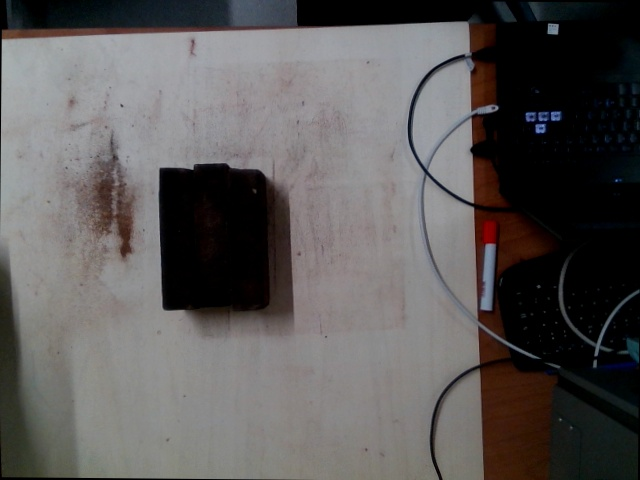brick-side: (192, 163, 228, 305), (226, 170, 261, 310), (158, 168, 192, 309)
